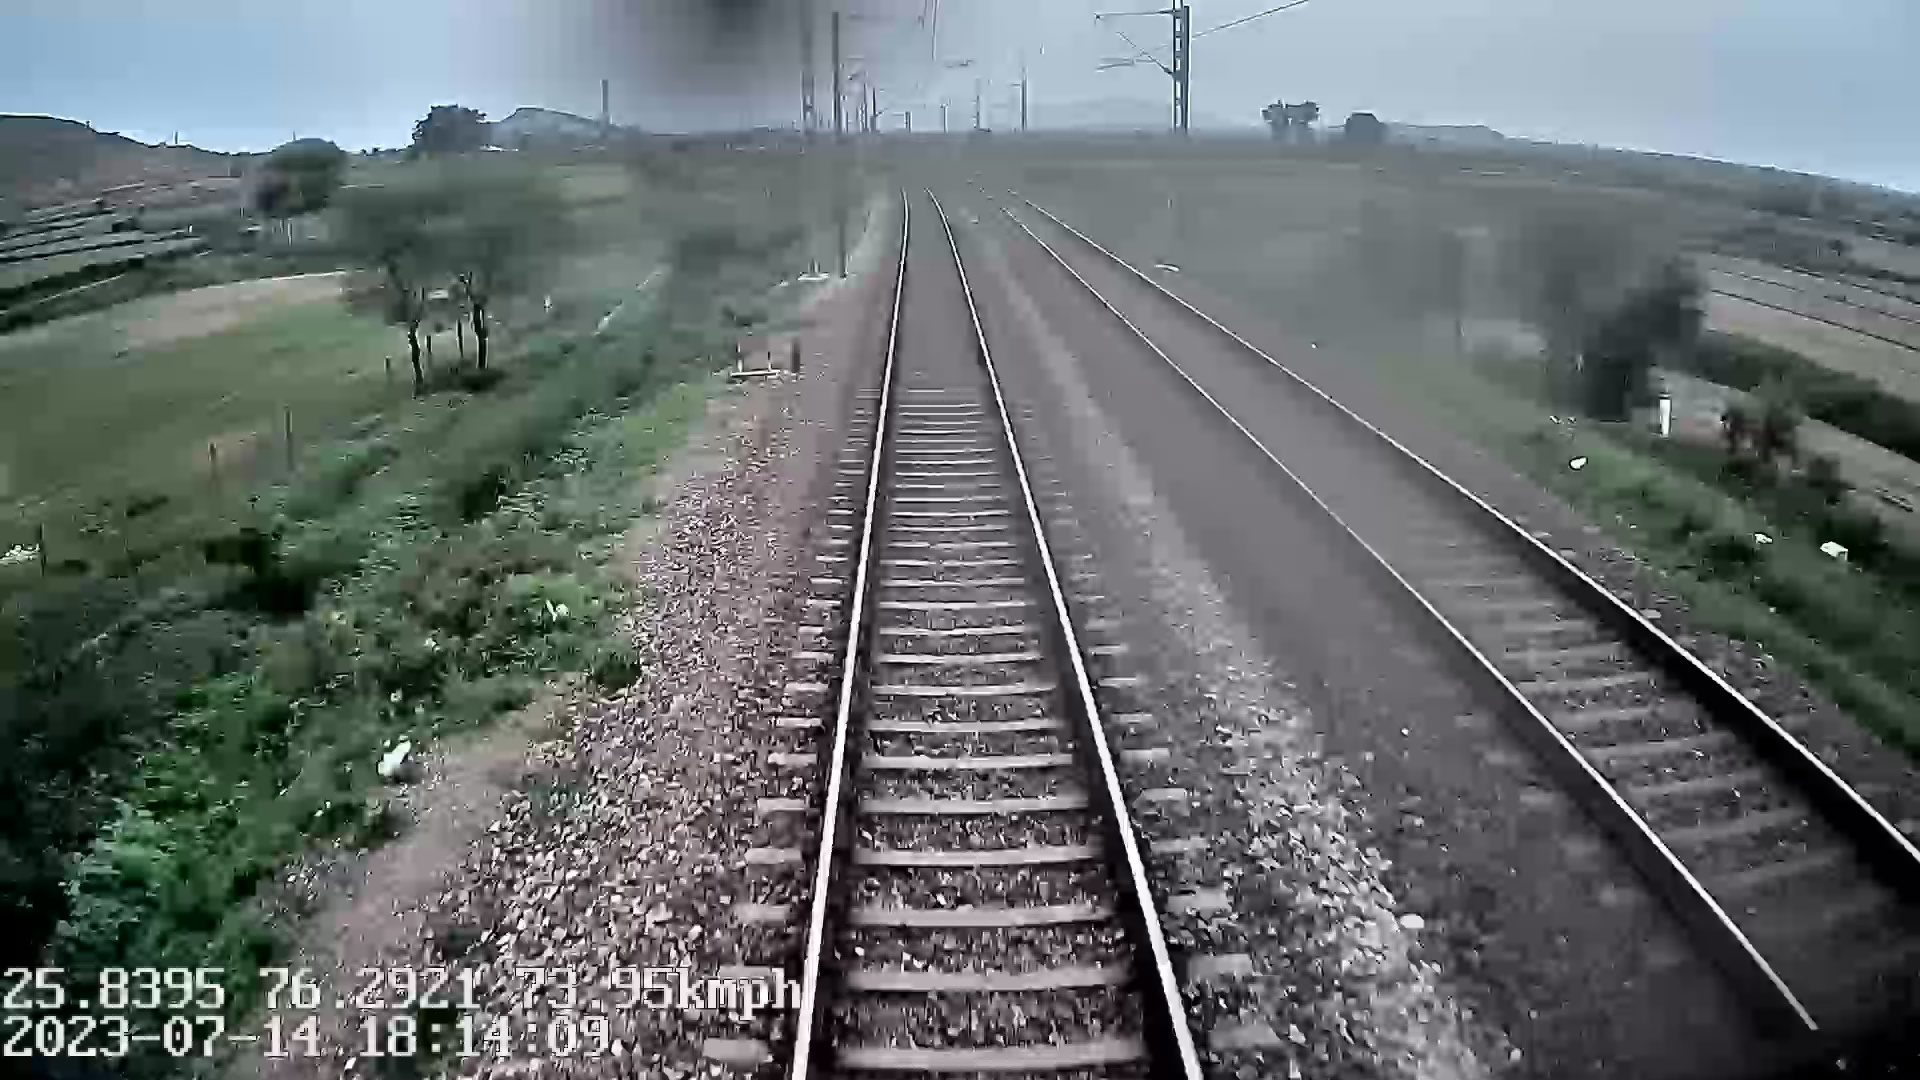track1: (802, 190, 1196, 1071)
track2: (997, 196, 1919, 1022)
